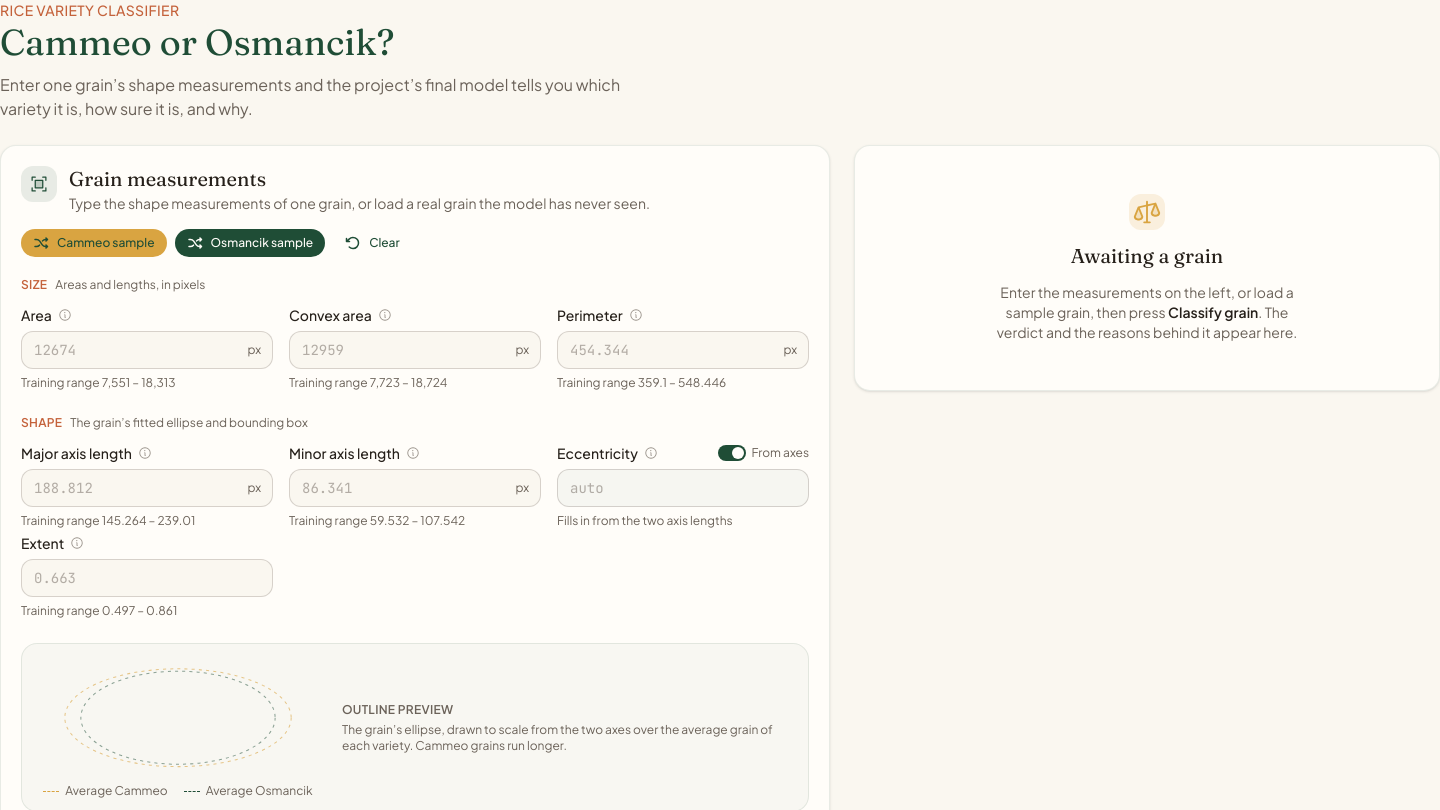
Test: ClassifyPage › shows a server validation error on its field
Click the button "Osmancik sample": (250, 243) [175,229,325,257]
(page scrolled)
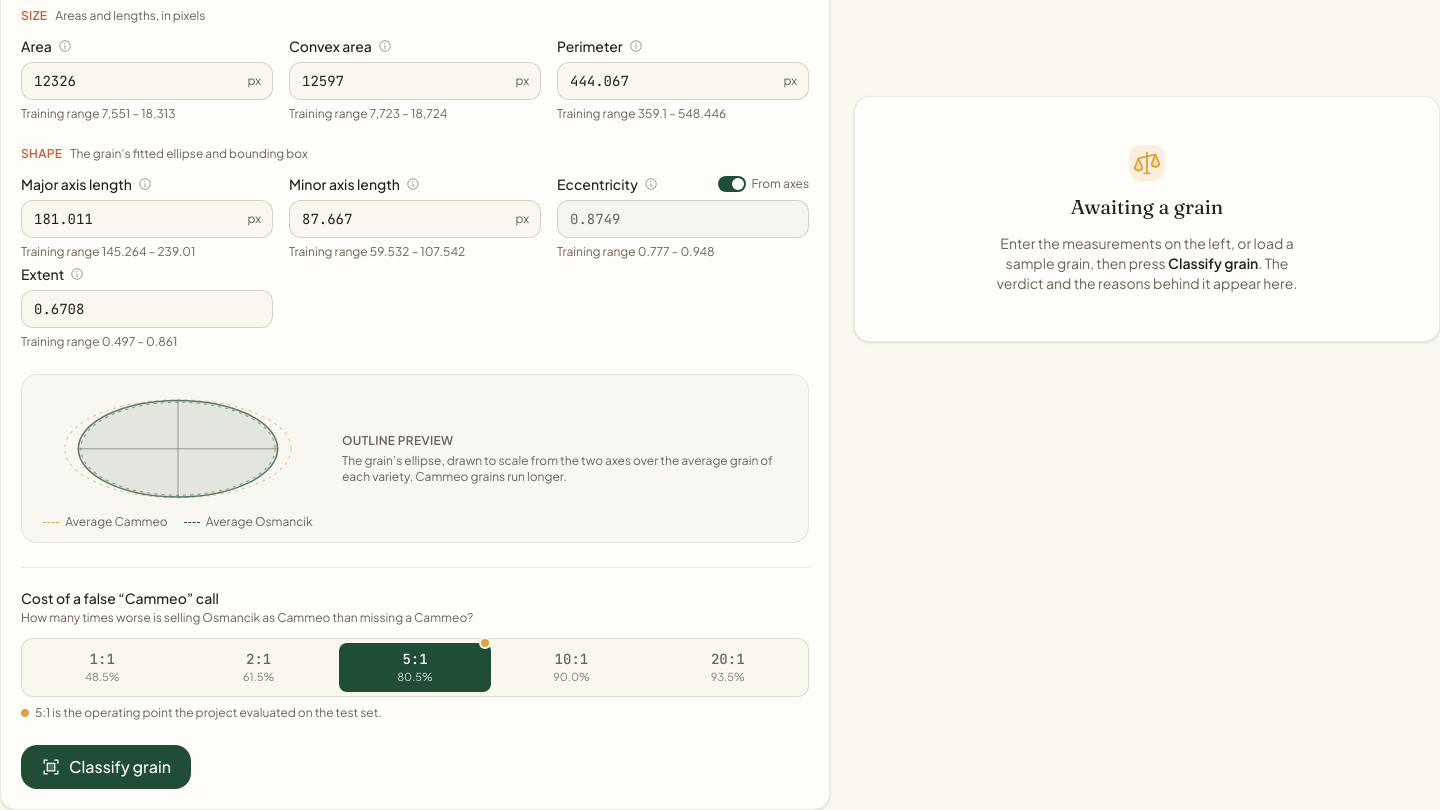
Click the button "Classify grain": (106, 767) [21,745,191,789]
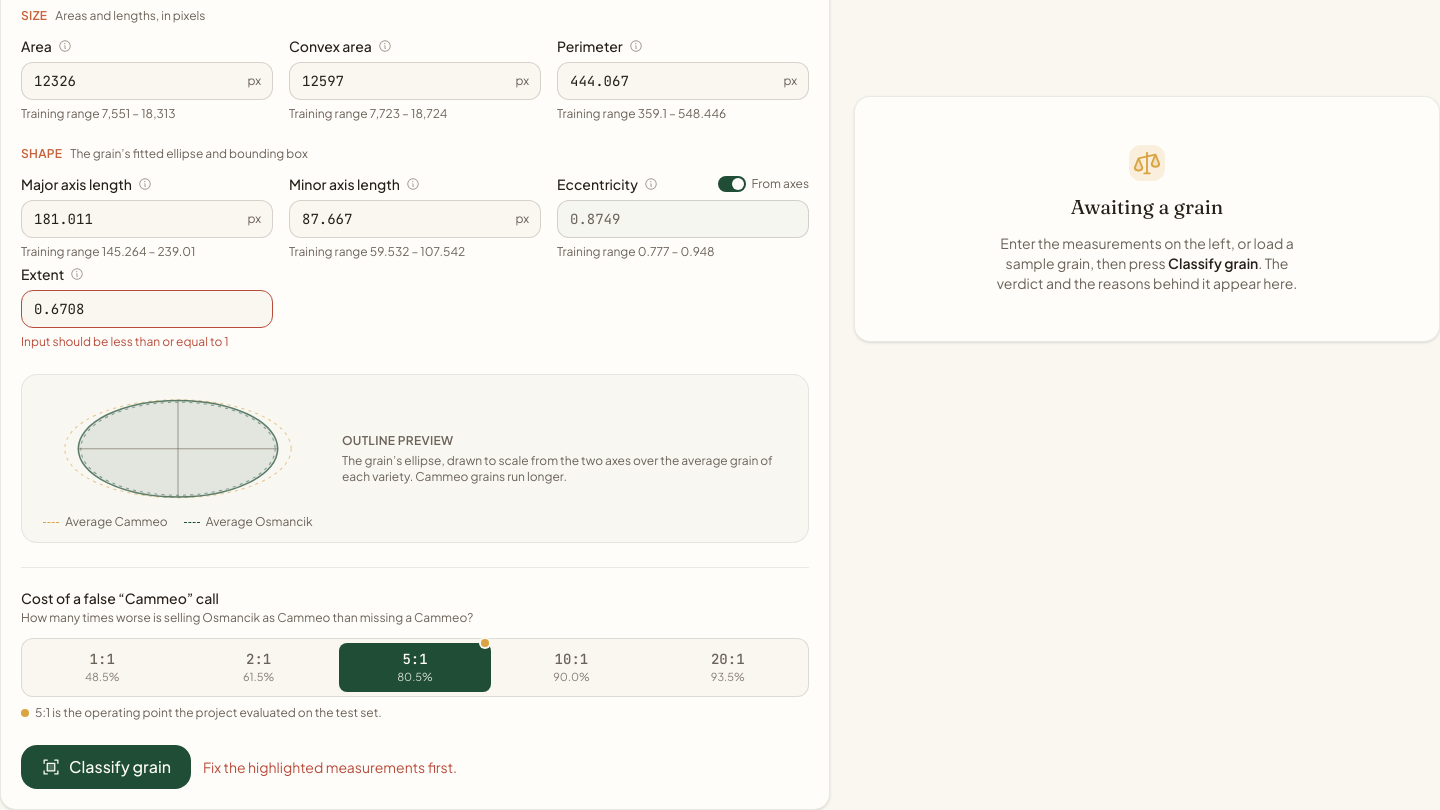
Check: the text "Input should be less than or equal to 1" is shown, box [21,334,229,349]
